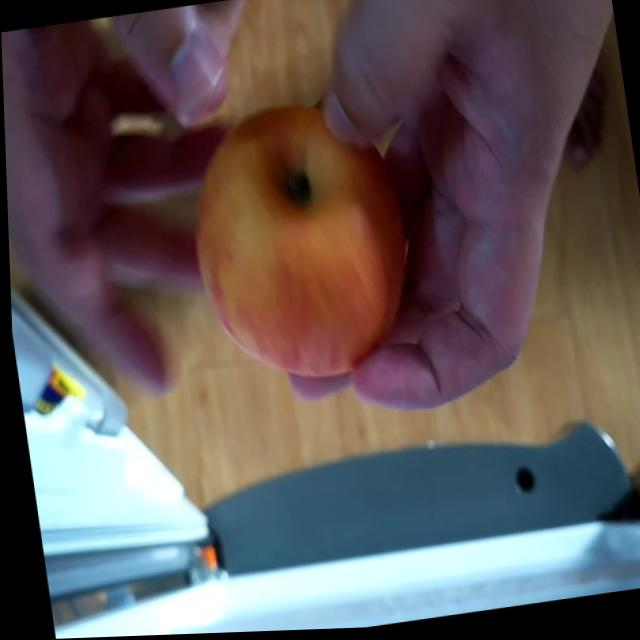apple: (175, 96, 426, 399)
